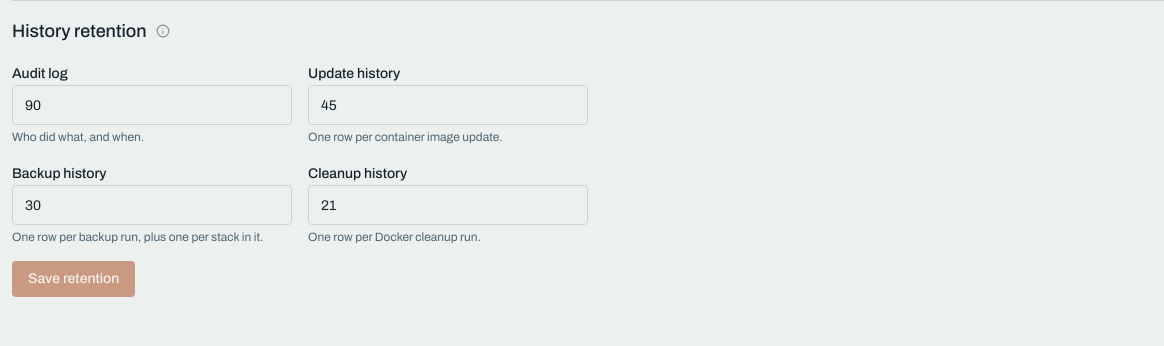
Test case: HistoryRetentionSection › refuses to submit a value below the server floor
The width and height of the screenshot is (1164, 346).
Replace the text in the number field labelled "Audit log" with "2": x=152, y=105 [12,85,292,125]
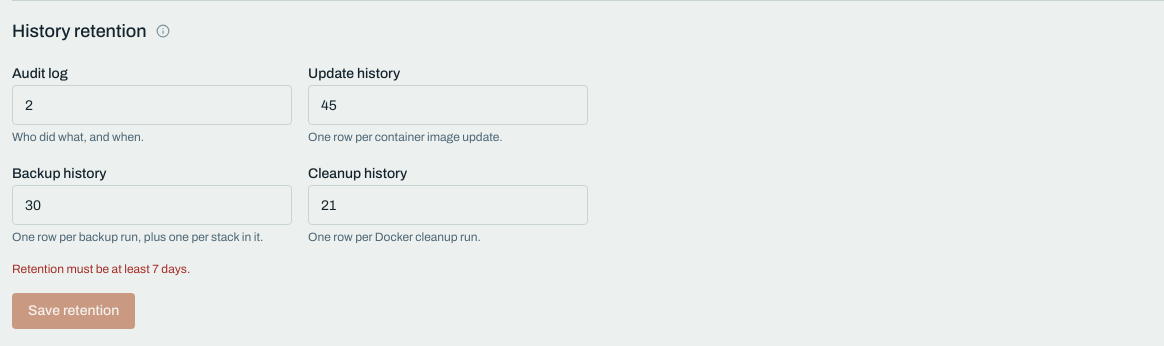
expect the button "Save retention" is disabled: met, box [12,293,135,329]
expect the text "Retention must be at least 7 days." is shown: met, box [12,262,190,276]
